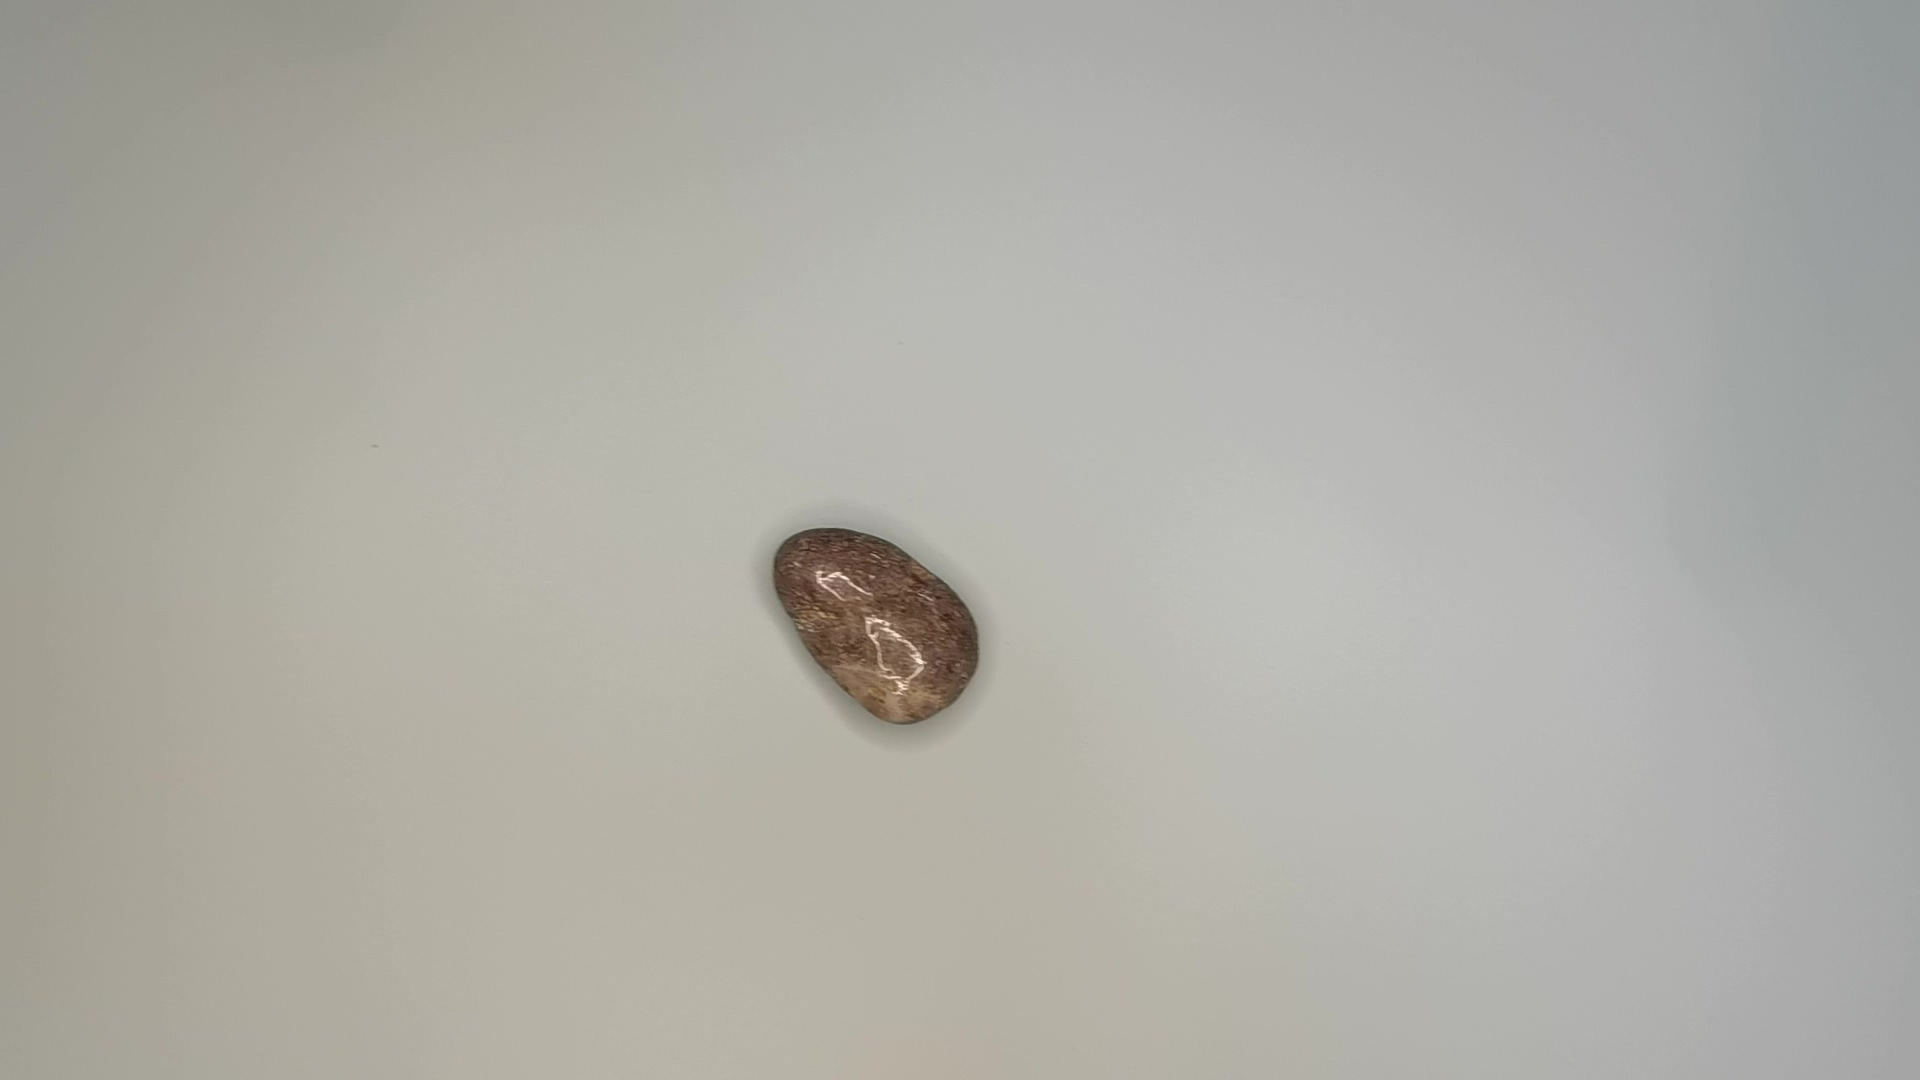ceramic: (762, 524, 986, 731)
